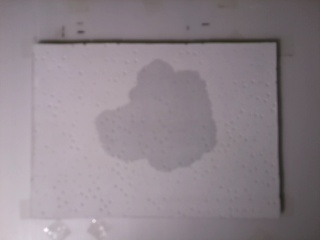Water_detected: (109, 78, 204, 159)
